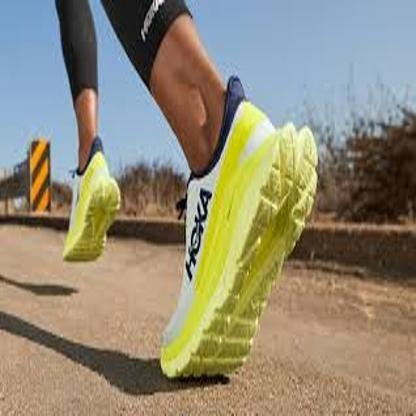not trash: (156, 73, 325, 388), (62, 141, 122, 281)
